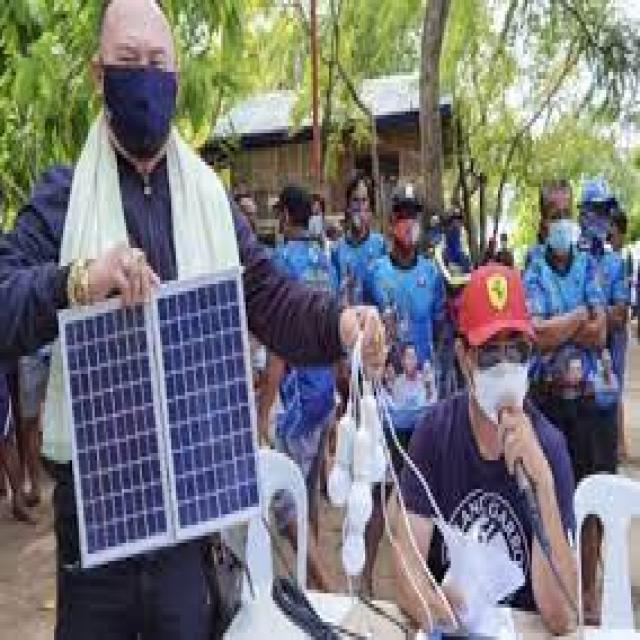no faulty: (153, 284, 256, 532), (75, 310, 167, 552)
